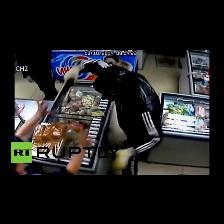person: (65, 60, 162, 174), (15, 50, 58, 100), (53, 130, 90, 174)
